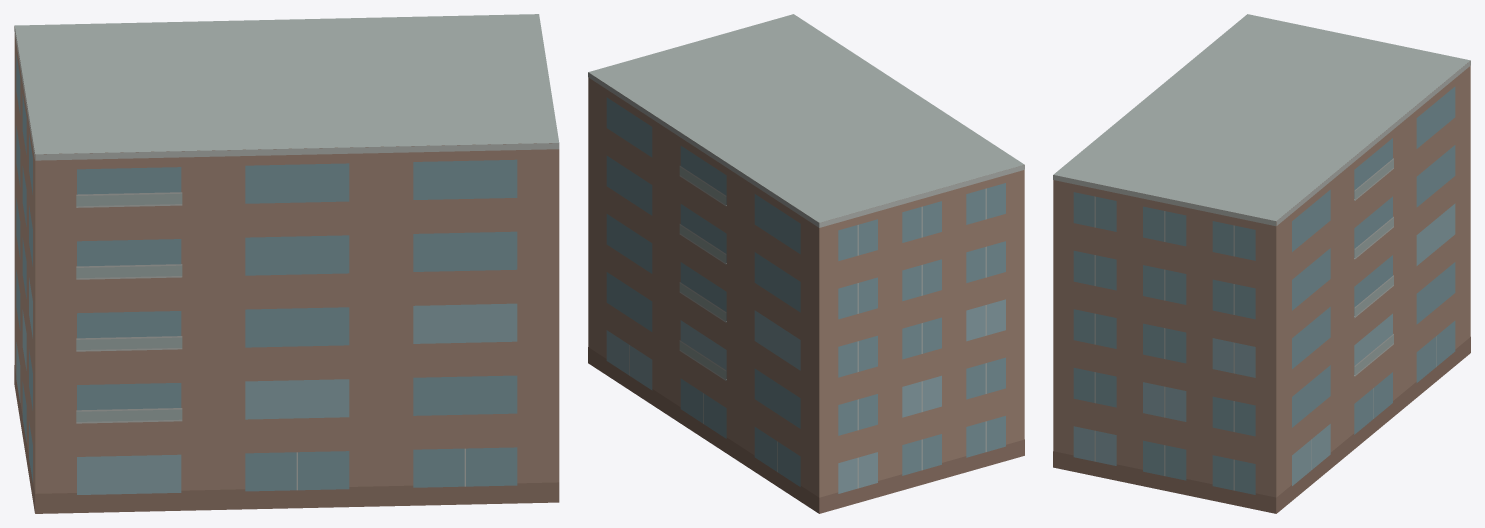
Rendered from survey-upis-32893425.glb.
The picture shows the model from 3 angles, left to right: view 1: azimuth 30°, elevation 25°; view 2: azimuth 150°, elevation 25°; view 3: azimuth 270°, elevation 25°; orthographic projection. The views are drawn at different scales.
Visible parts, largest first — view 1: survey-upis-32893425.tmp; view 2: survey-upis-32893425.tmp; view 3: survey-upis-32893425.tmp.
Part boxes in pixels (<box>): survey-upis-32893425.tmp: <box>14,14,559,513</box>; survey-upis-32893425.tmp: <box>588,14,1024,513</box>; survey-upis-32893425.tmp: <box>1053,14,1470,513</box>.
Size of the model in its own units: 21.11 by 13.9 by 17.98.
